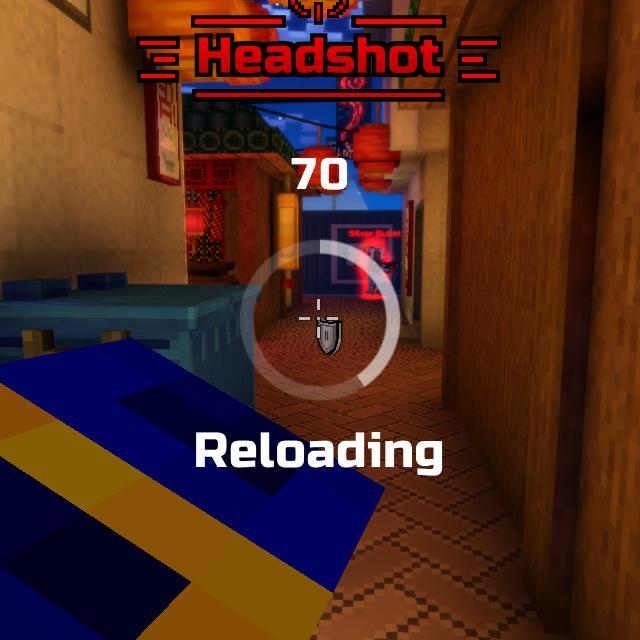Enemy: (362, 247, 392, 298)
